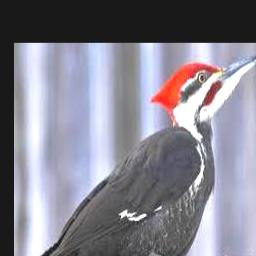Woodpecker: (17, 53, 256, 256)
